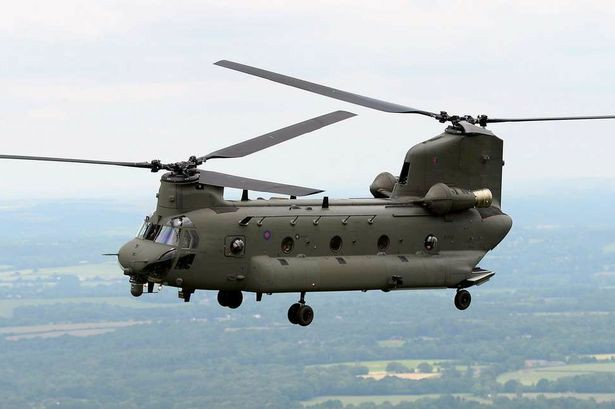chinook: (56, 59, 596, 327)
